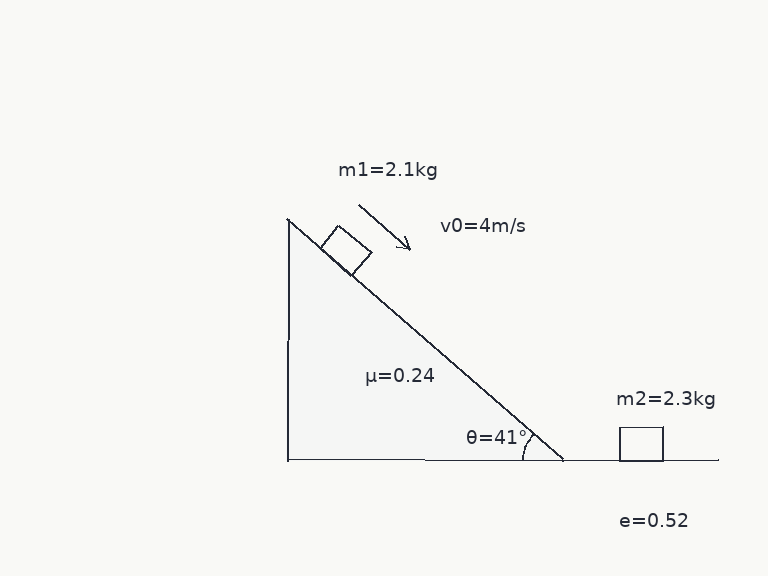block: (317, 223, 373, 277), (617, 426, 665, 462)
ramp: (285, 218, 565, 462)
